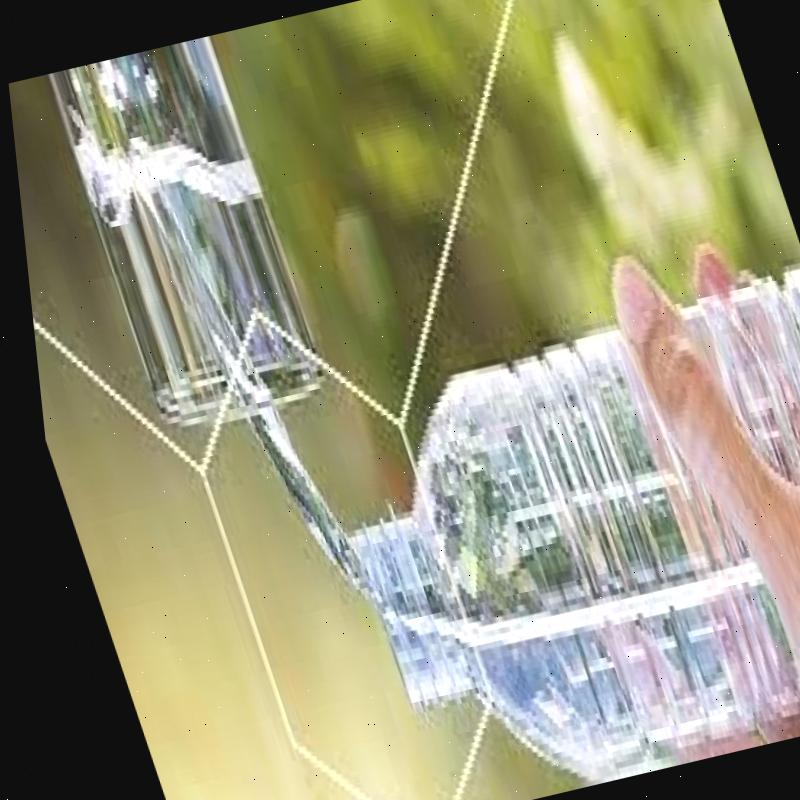botella: (282, 260, 800, 800)
